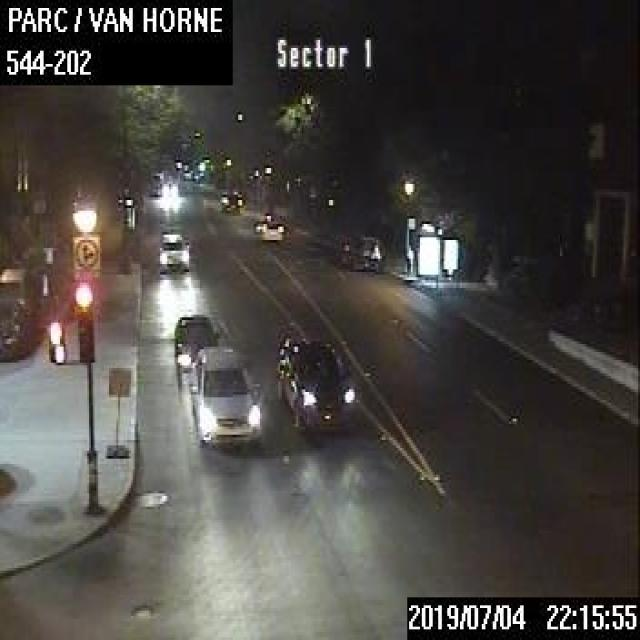vehicle: (275, 333, 356, 427), (189, 343, 260, 448), (0, 266, 38, 362), (173, 312, 219, 380), (339, 232, 380, 266), (156, 230, 188, 272), (252, 208, 284, 240), (218, 187, 244, 210), (161, 177, 176, 195)
